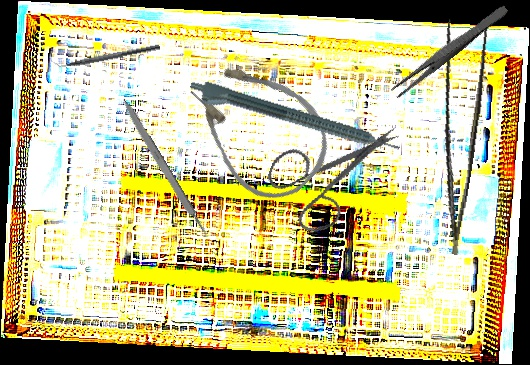Cannula: (169, 37, 349, 218)
Chopper: (50, 36, 161, 73)
Dressing Forceps: (389, 1, 510, 100)
Handpiece: (186, 76, 402, 165)
Iris Scissors: (255, 92, 402, 249)
Scalpel Handle: (118, 96, 207, 236)
Tissue Forceps: (412, 12, 496, 256)
